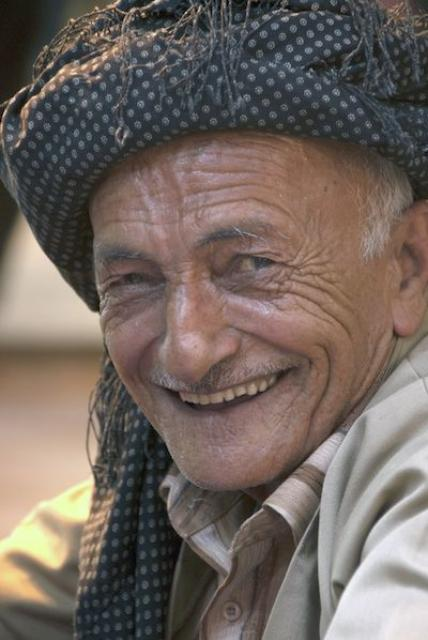crows_feet: (280, 249, 324, 301)
forehead: (192, 174, 274, 216), (193, 137, 285, 165), (98, 206, 166, 232)
gummy_smile: (241, 322, 295, 354), (128, 330, 160, 374)
masseter: (310, 346, 338, 416), (314, 297, 354, 333)
